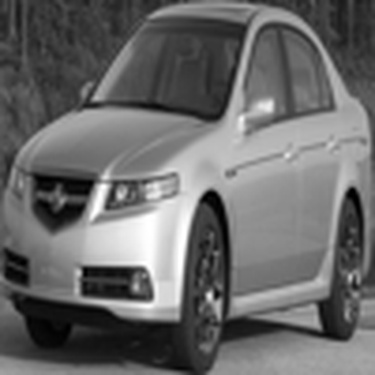car: (10, 6, 375, 328)
